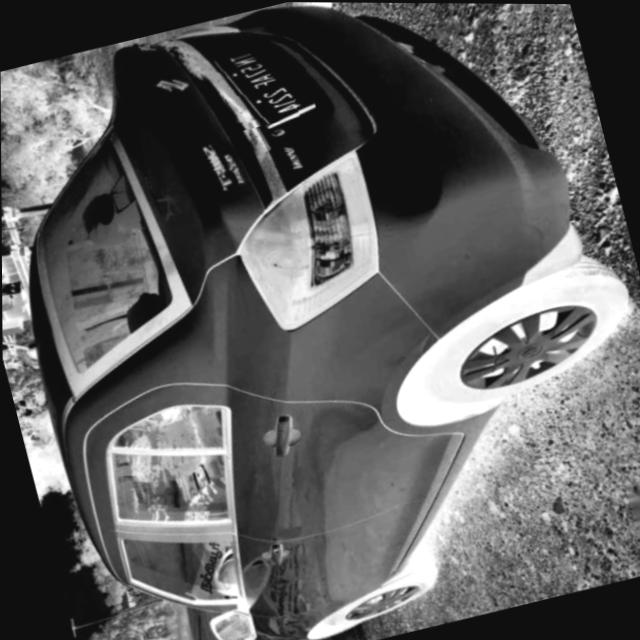Non_registered: (211, 36, 317, 132)
